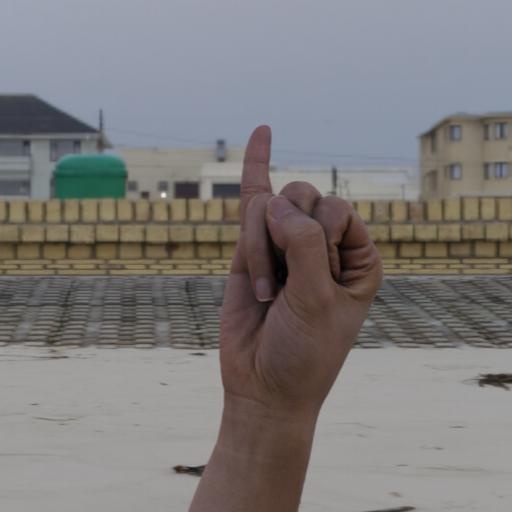I: (206, 116, 392, 426)
